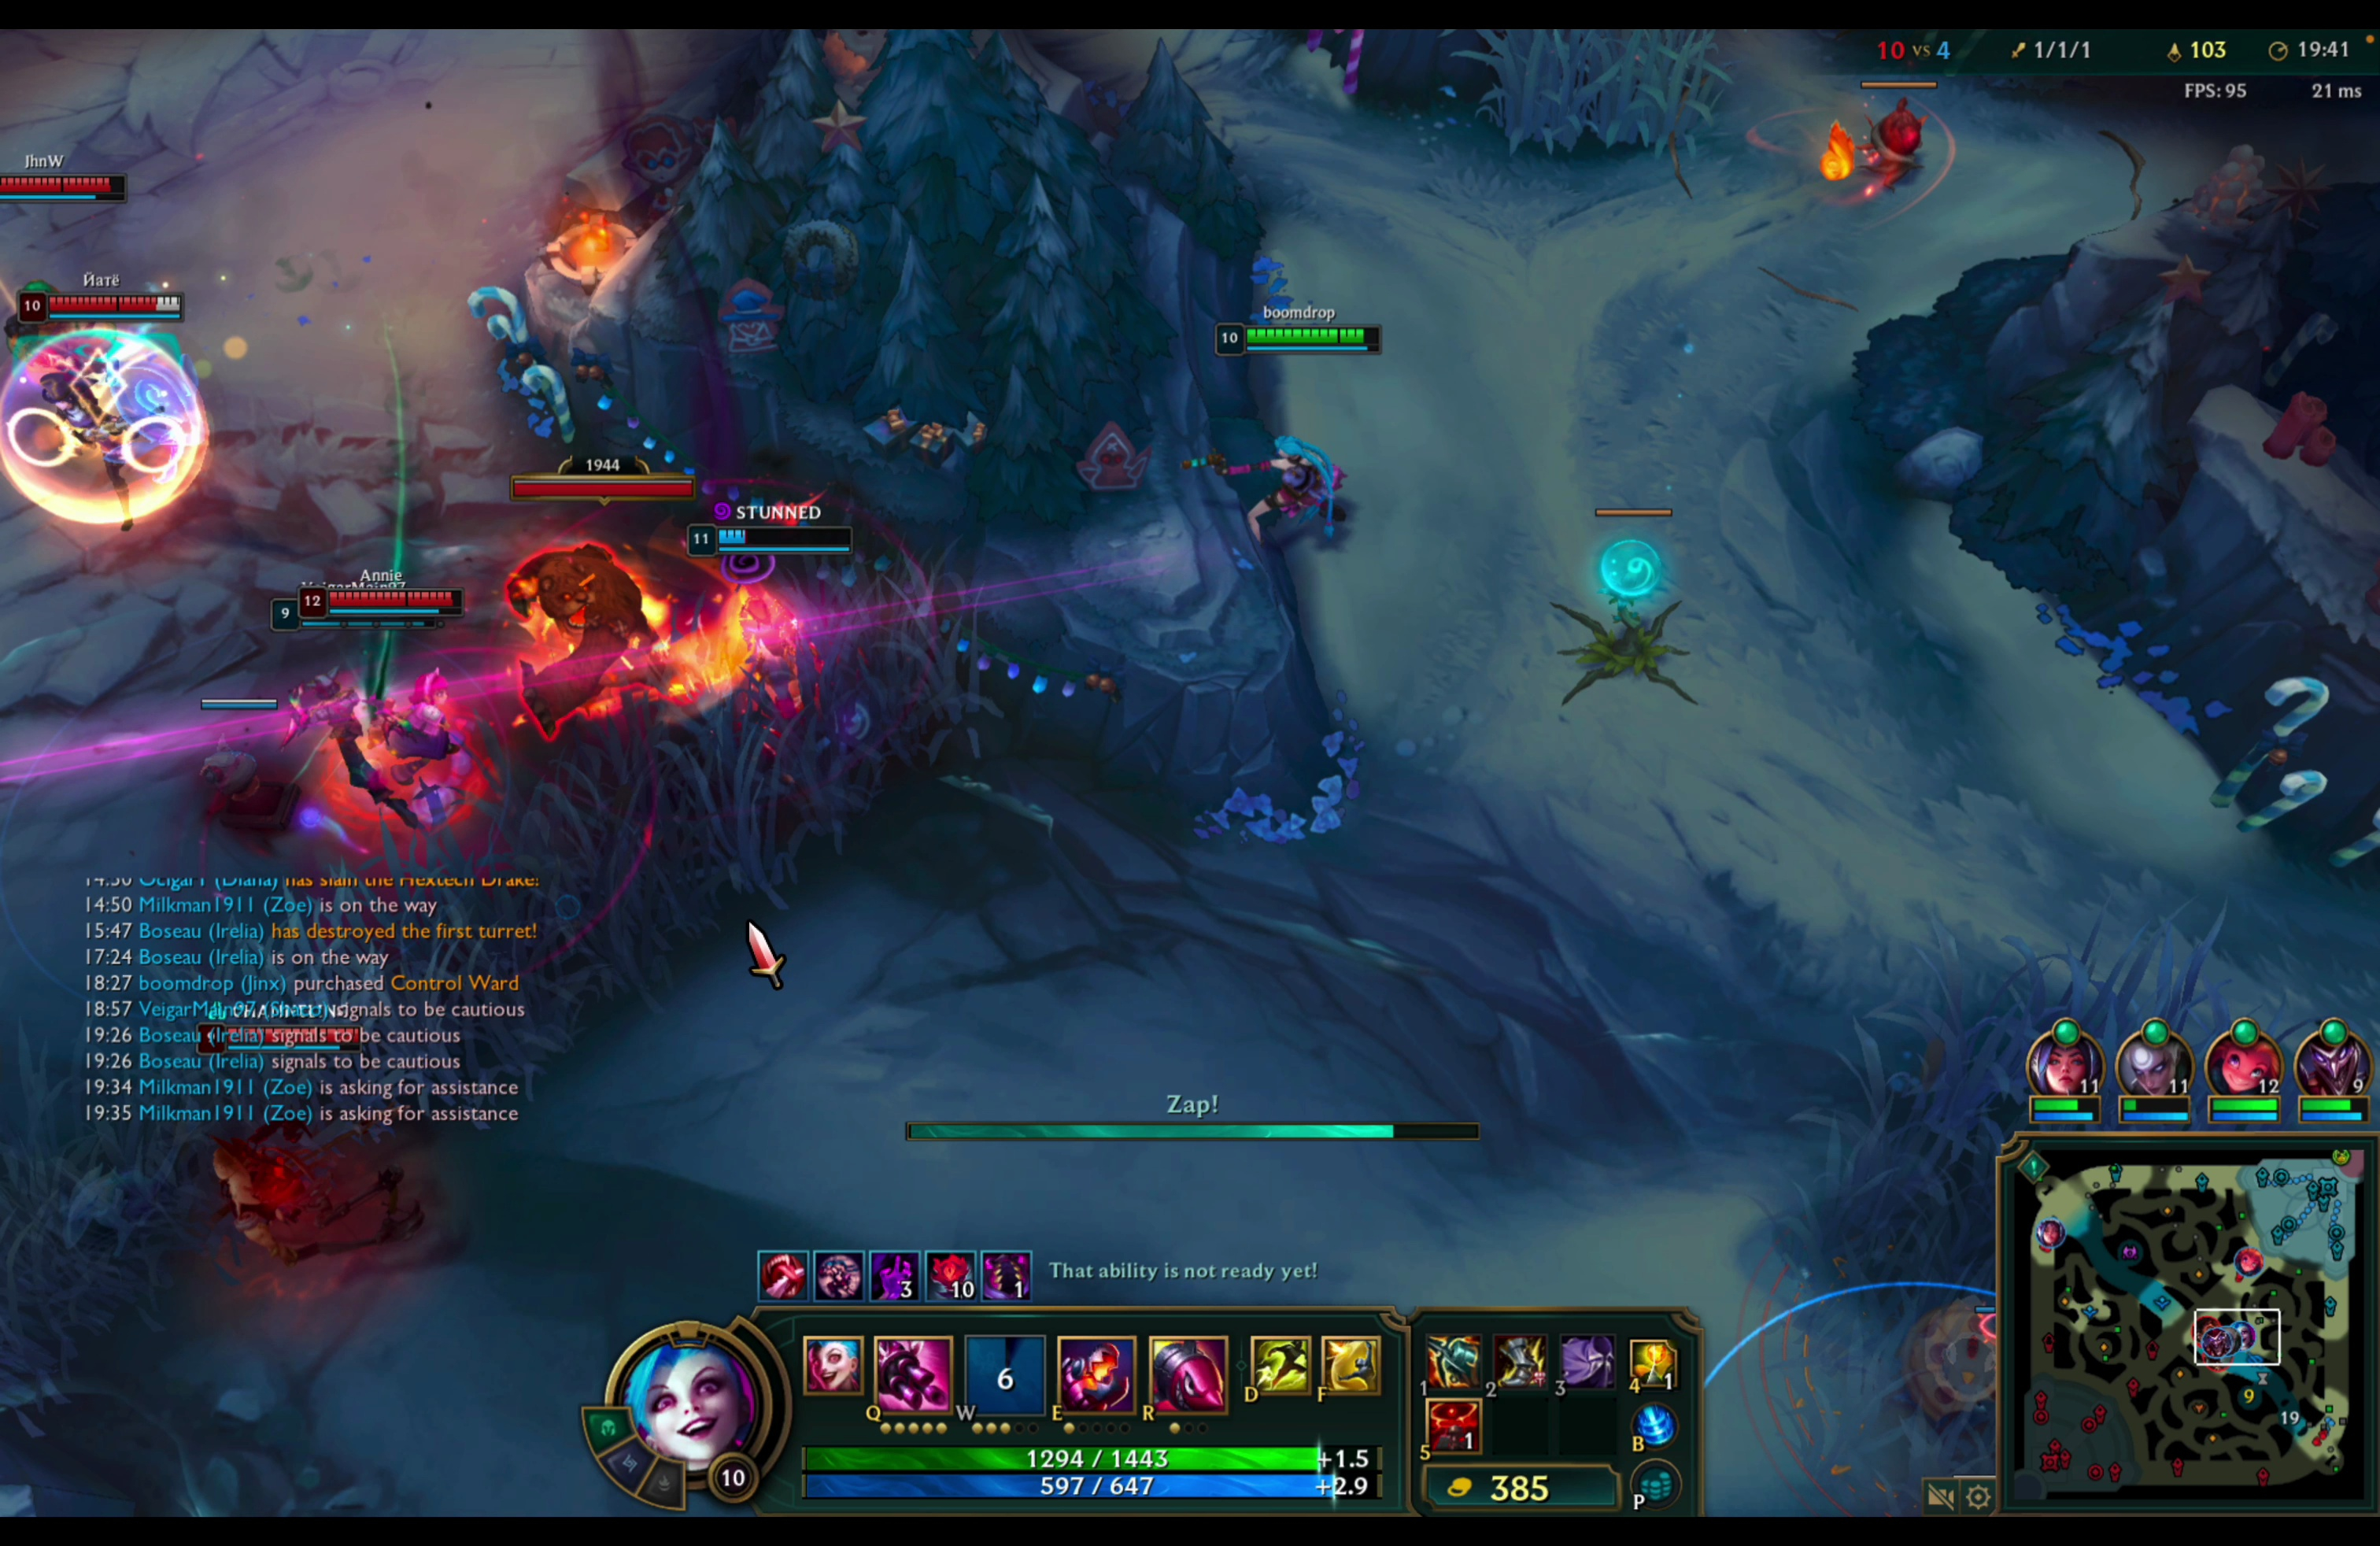JINX_W_PROJECTILE: (1202, 297, 1395, 585)
